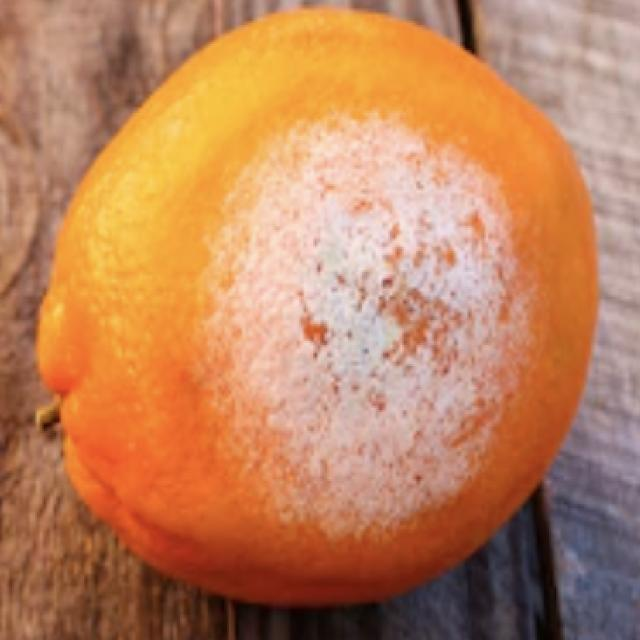sedikit-busuk: (39, 9, 596, 603), (213, 118, 527, 529)
